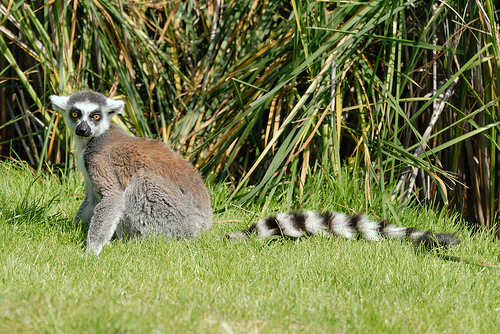cat: (48, 88, 466, 259)
